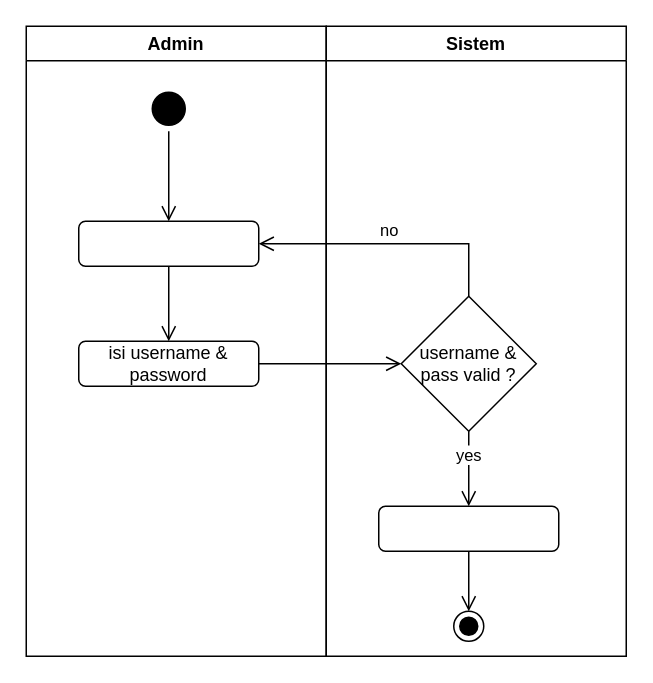
The diagram is 653 pixels wide and 683 high, and some of its shapes have lost their labels. The shapes that lost their labels are listed below. From the top down, each one's centre as x and y in pixels, then its label:
At point (168, 243): "form login teacher".
At point (468, 528): "admin dashboard".
